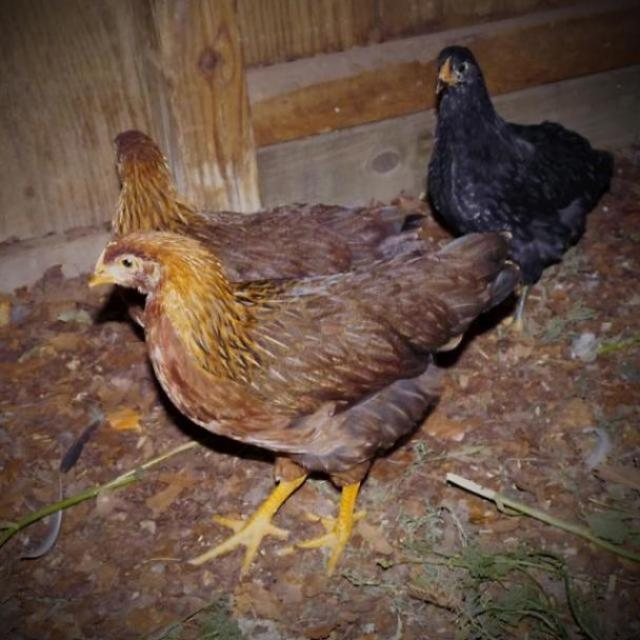Chicken: (87, 119, 525, 584), (423, 44, 620, 344)
